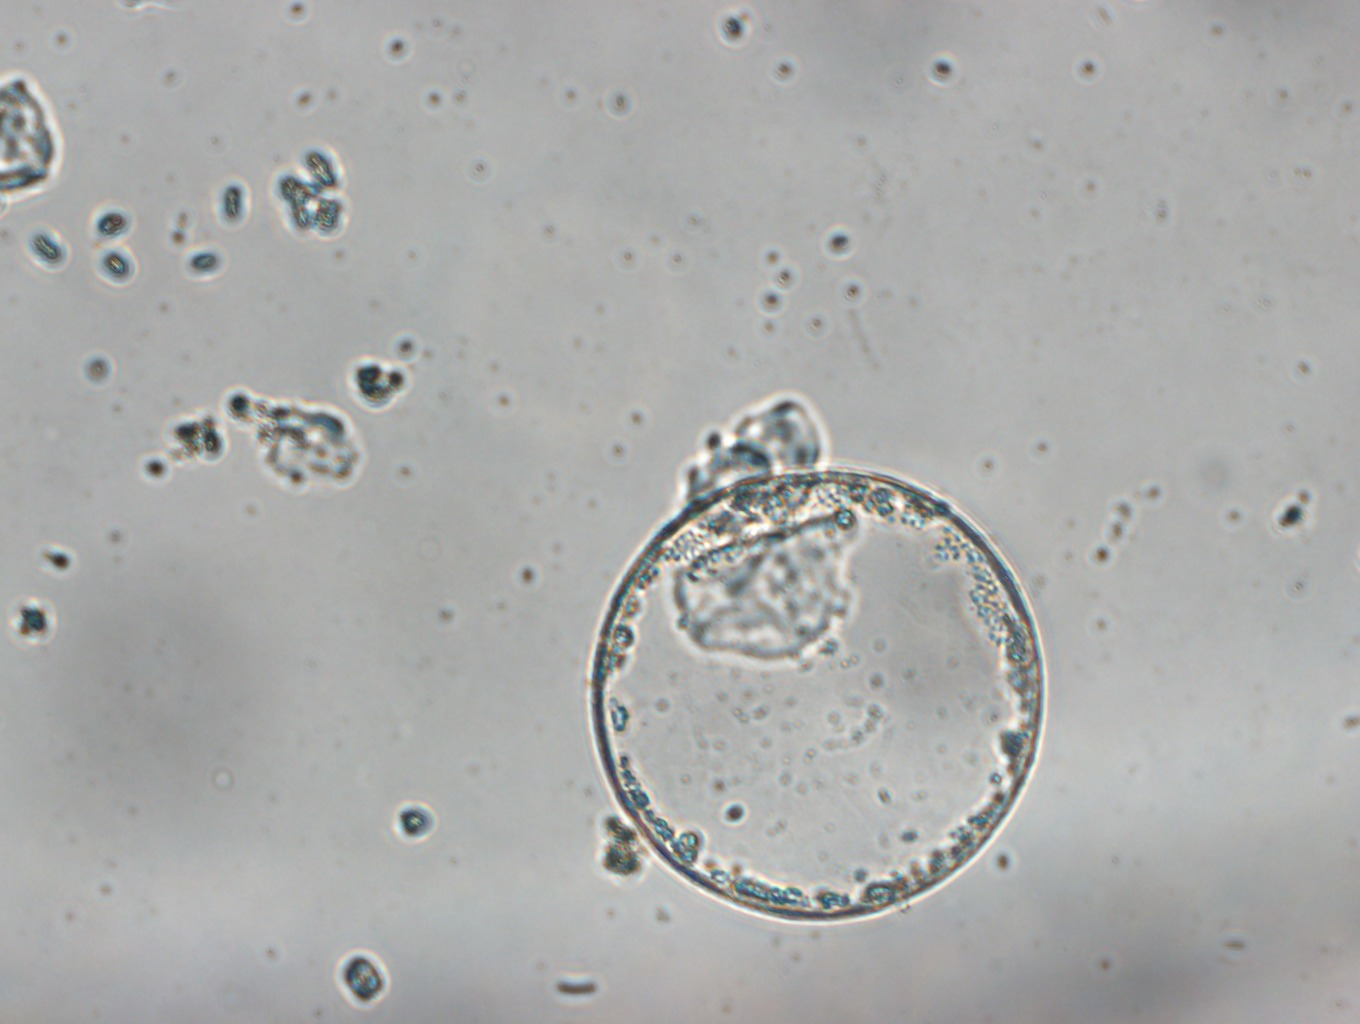coscinodiscus: (577, 463, 1061, 934)
